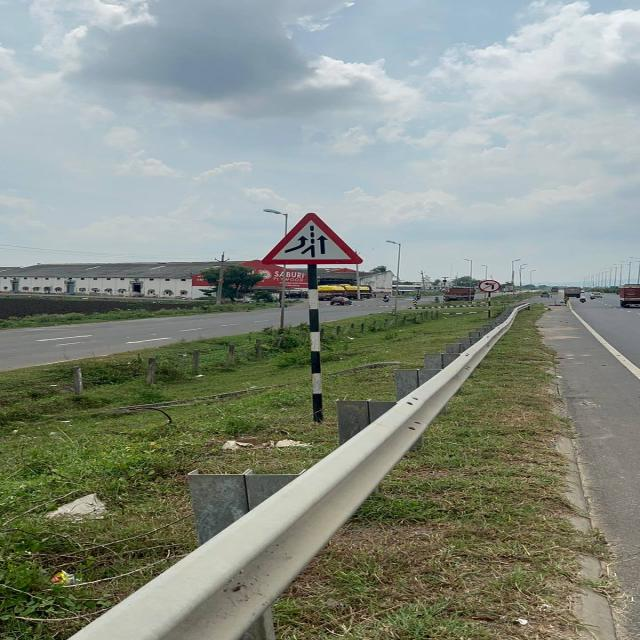merging_traffic_from_left: (253, 206, 378, 283)
